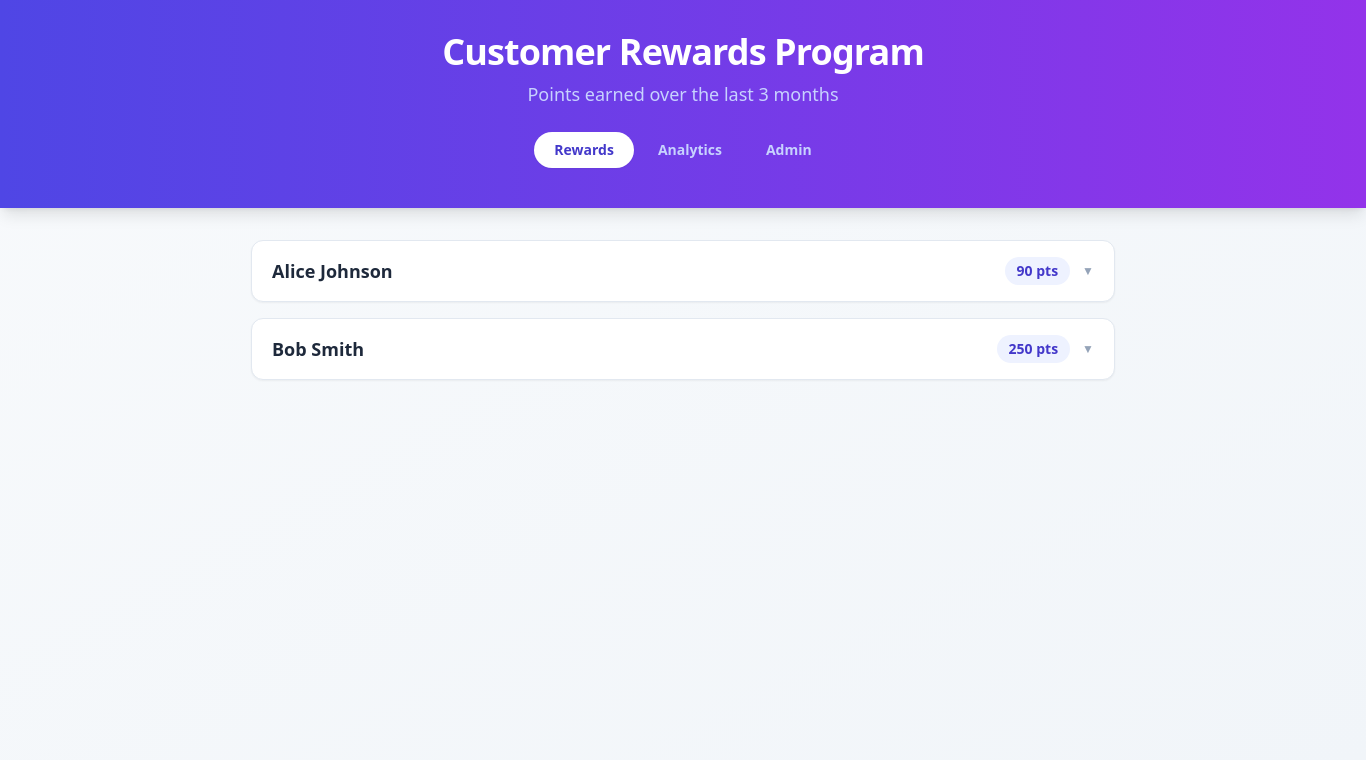
App › switches to Analytics view when Analytics tab is clicked
What coordinates should you click on to do the following:
click the tab "Analytics"
I would click on:
 (690, 150)
Its box is [638,132,742,168].
(page scrolled)
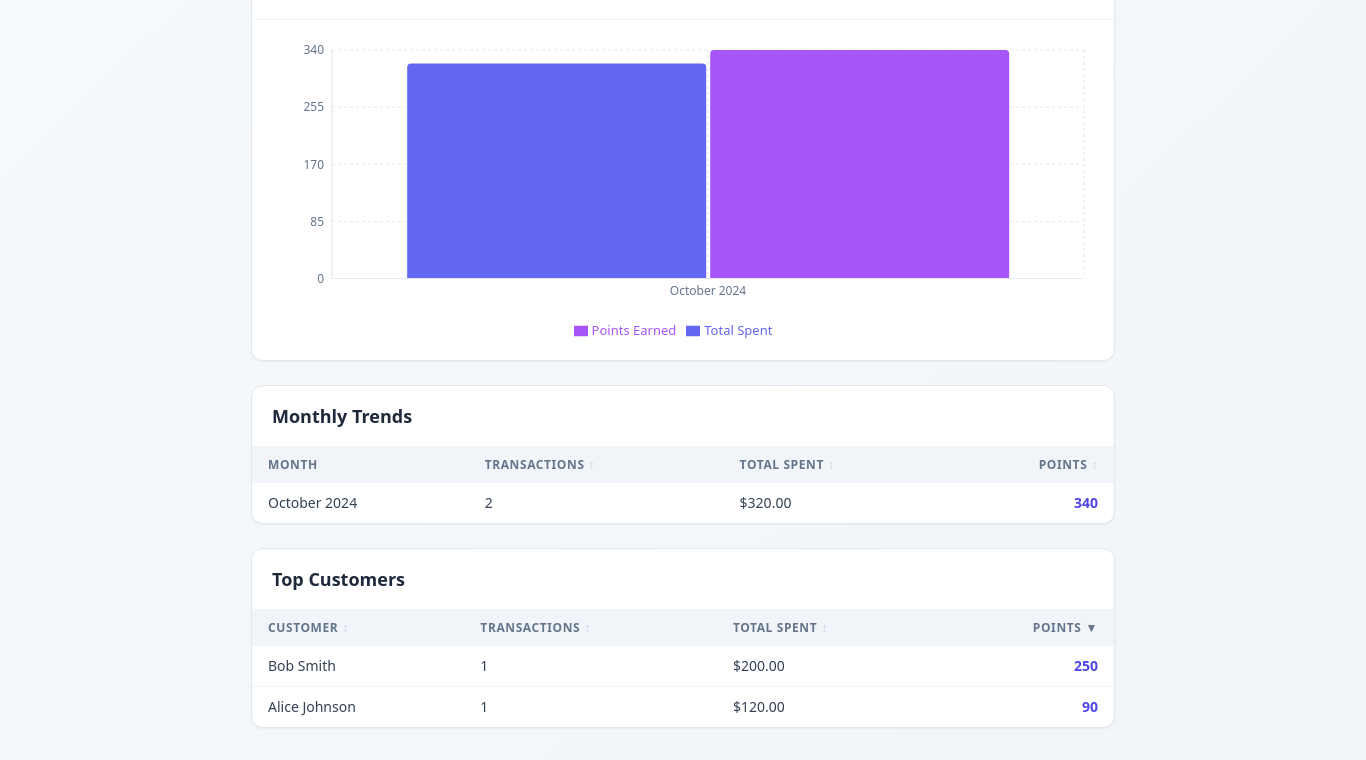
Expected: the heading "Monthly Trends" is shown, [272,404,412,428]
